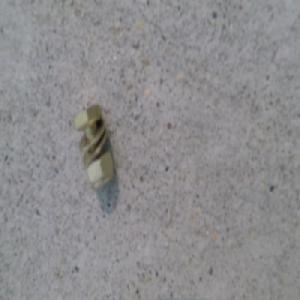BoltNutSet: (72, 102, 112, 188)
